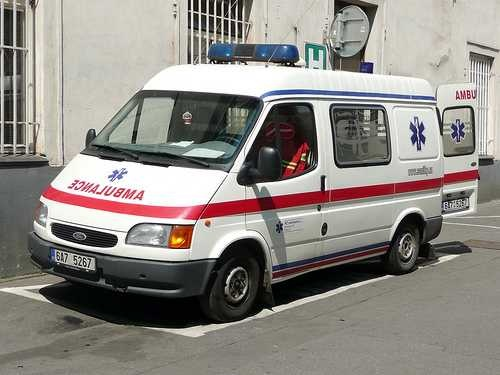Ambulance: (33, 36, 474, 321)
